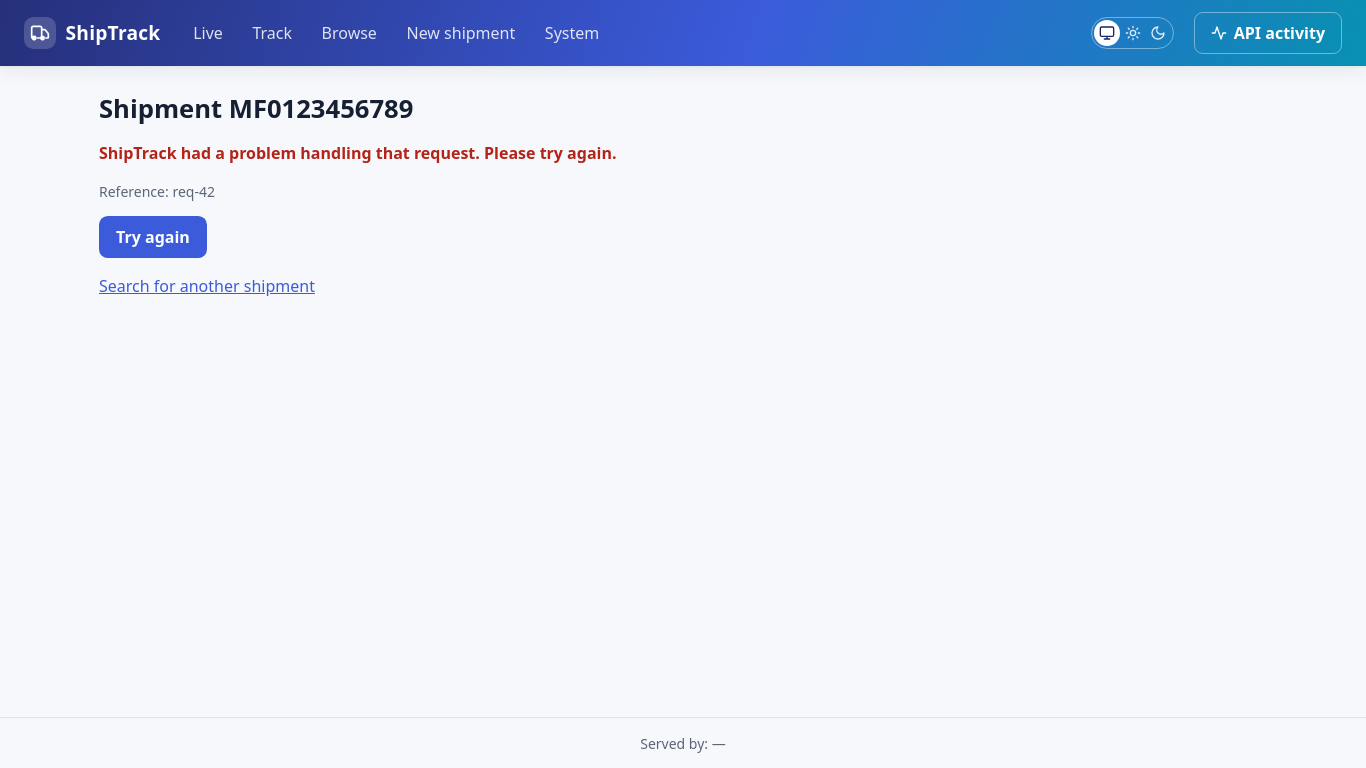
Test: track page: error states › shows a retry prompt with the request id for a 5xx
Check: the text "had a problem handling that request" is shown, box [99, 142, 616, 164]
Check: the text "Reference: req-42" is shown, box [99, 182, 215, 201]
Click the button "Try again" at (153, 237), box [99, 216, 207, 258]
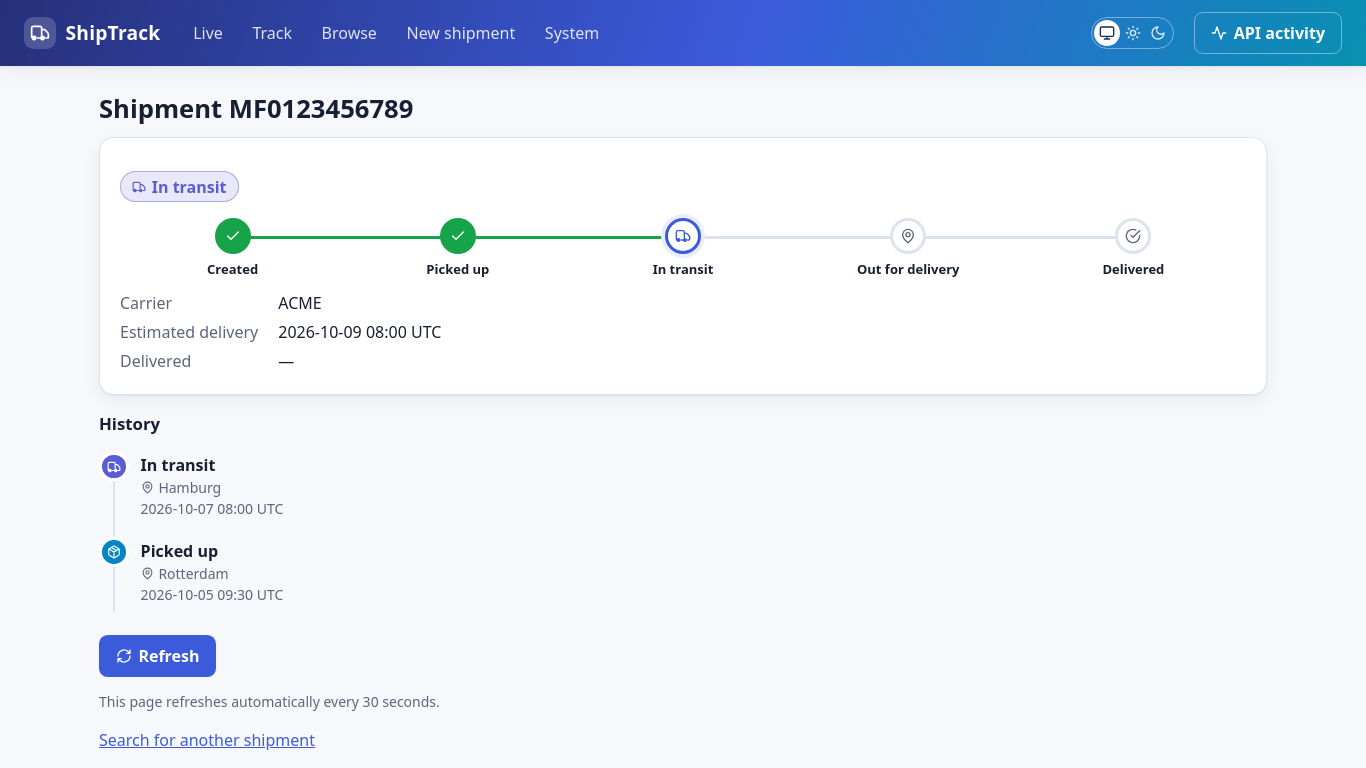
Check: the text "In transit" is shown, box [120, 171, 239, 202]
